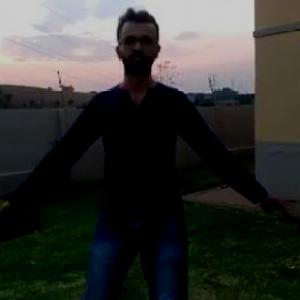land: (5, 16, 273, 290)
